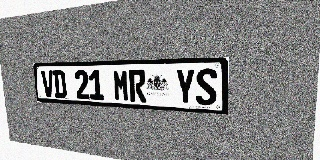1: (88, 70, 104, 100)
2: (74, 70, 90, 99)
D: (53, 70, 67, 98)
M: (113, 70, 130, 101)
R: (129, 69, 146, 102)
S: (196, 68, 217, 106)
V: (41, 71, 55, 98)
Y: (175, 69, 195, 105)
